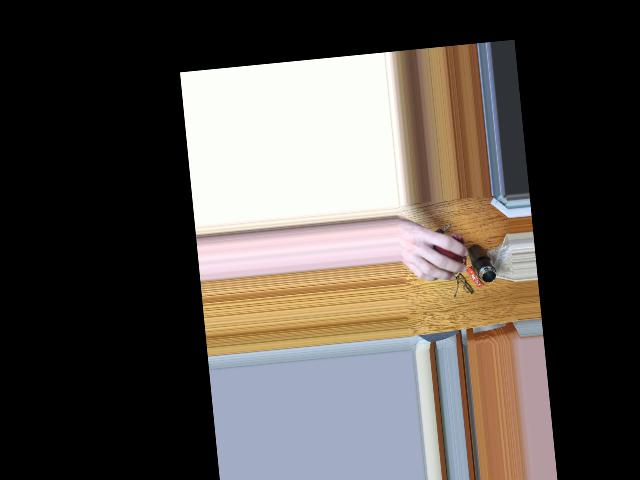onion: (424, 234, 459, 276)
